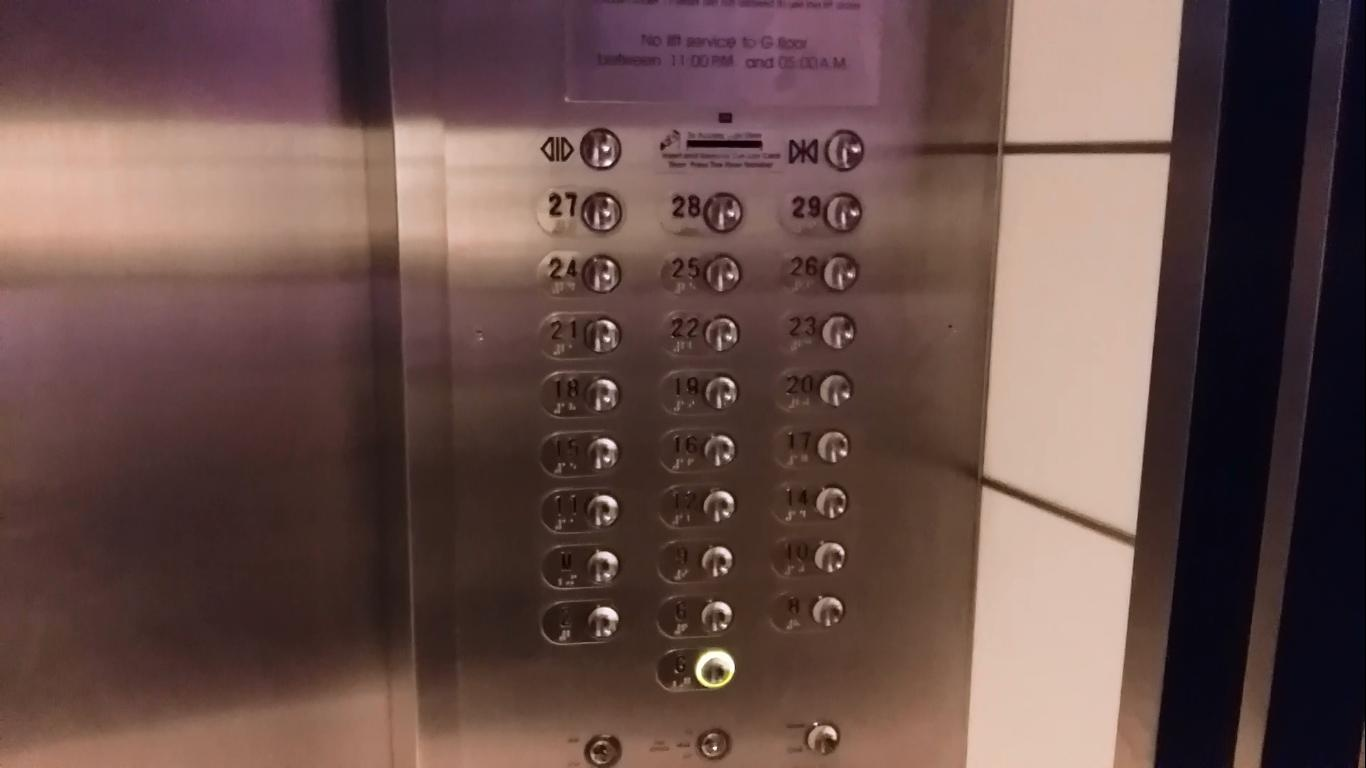10: (766, 532, 849, 581)
11: (536, 486, 626, 535)
12: (653, 482, 740, 532)
14: (768, 478, 851, 527)
15: (536, 429, 625, 480)
16: (653, 425, 741, 475)
17: (769, 423, 855, 472)
18: (536, 369, 624, 420)
19: (654, 367, 742, 417)
2: (538, 598, 627, 647)
20: (772, 366, 858, 415)
21: (536, 310, 625, 361)
22: (656, 307, 743, 356)
23: (773, 307, 859, 356)
24: (535, 248, 626, 300)
25: (657, 250, 744, 299)
26: (773, 250, 863, 297)
27: (535, 185, 627, 239)
28: (659, 184, 751, 238)
29: (775, 183, 867, 237)
6: (653, 592, 737, 642)
8: (766, 587, 850, 636)
9: (653, 537, 737, 587)
G: (654, 645, 738, 695)
blur: (538, 542, 627, 591)
close: (781, 124, 867, 178)
empty: (804, 721, 842, 758)
open: (534, 122, 626, 176)
